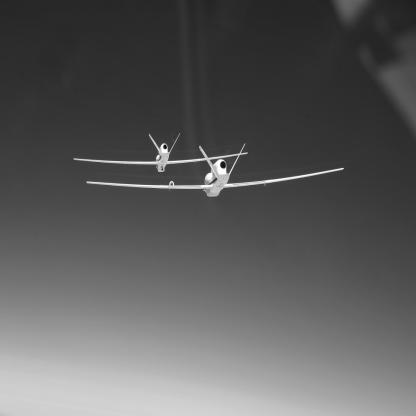RQ4: (87, 144, 345, 198), (75, 133, 250, 173)
